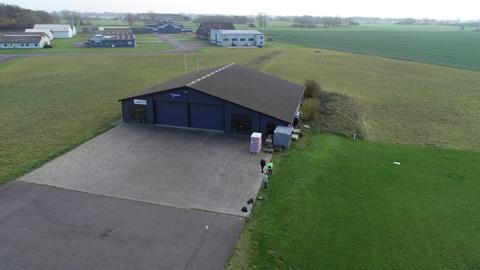RockwoolPallet: (249, 132, 263, 154)
